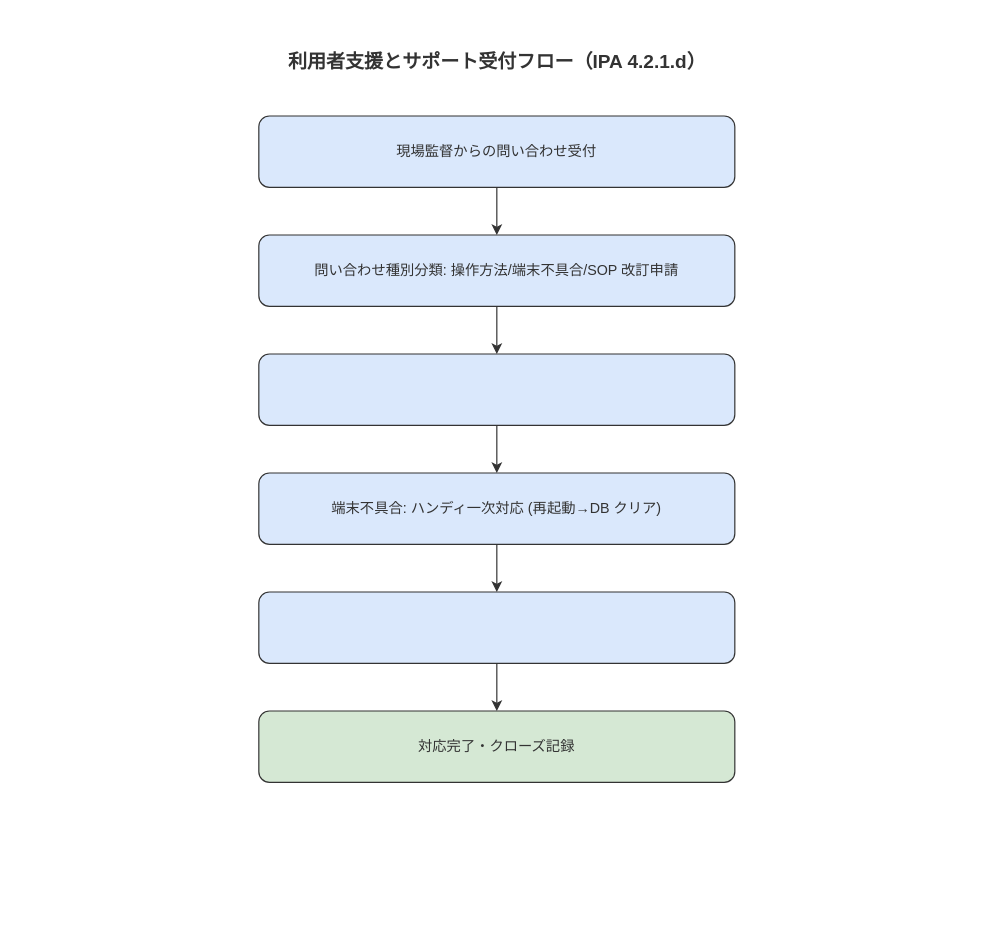
Some shapes in this 992 by 945 pixel diagram are drawn without their labels. The centre of each missing label's shape, as x and y in pixels:
SOP 改訂申請: CR-OPS-NNN 起票 → 保守記録/10 章へ: the point at 496,627
操作方法: FAQ・SOP 参照先案内: the point at 496,389
